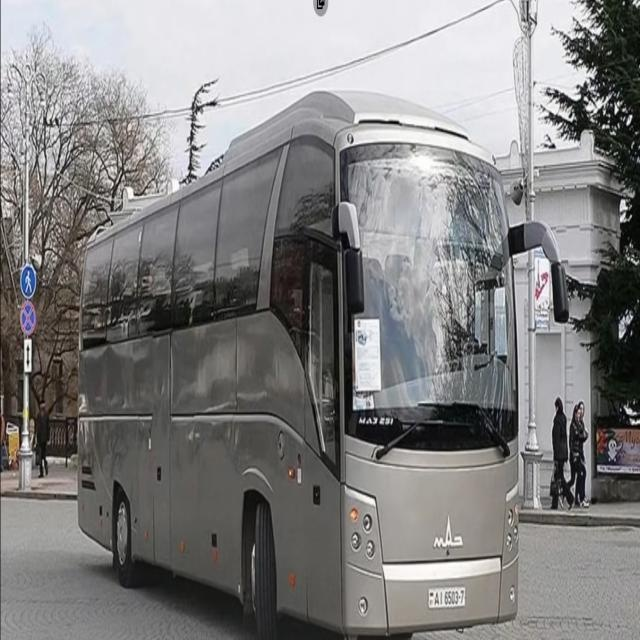Bus: (73, 84, 577, 640)
